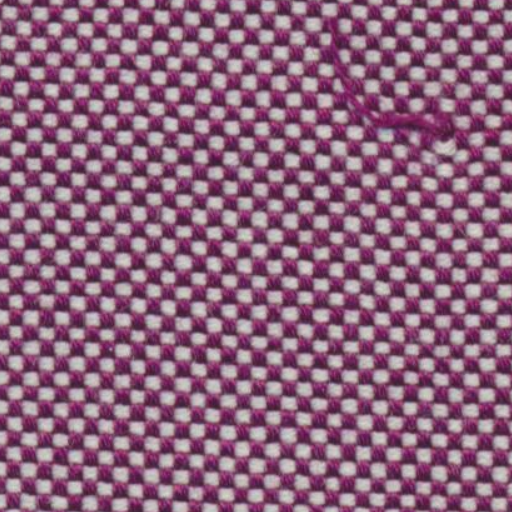DuanSha: (294, 11, 478, 138)
